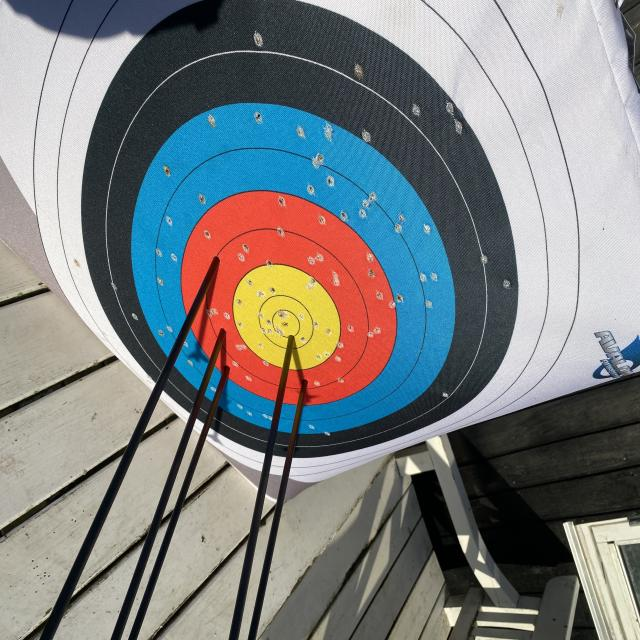Arrow_Red: (199, 244, 234, 276), (210, 321, 237, 350), (218, 355, 242, 380), (297, 368, 317, 398)
Arrow_Yellow: (274, 323, 304, 361)
